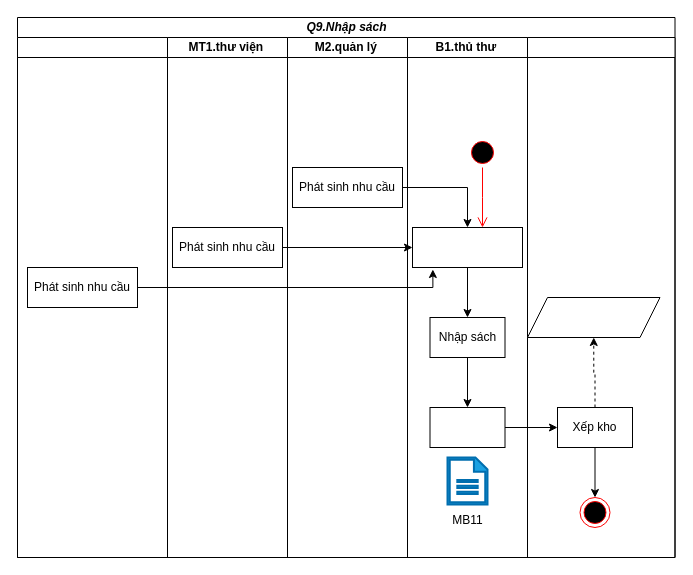
Some shapes in this 693 by 575 pixel diagram are drawn without their labels. The shapes that lost their labels are listed below. From the top down, each one's box as (x1, y1, x2, y2) in pixels, then its label:
(412, 226, 522, 268): Tổng hợp nhu cầu
(16, 36, 168, 558): M1.bạn đọc
(526, 296, 660, 338): K3.Kho thông tin sách
(526, 36, 675, 558): B2+B3.kho
(429, 406, 505, 448): Biên mục
